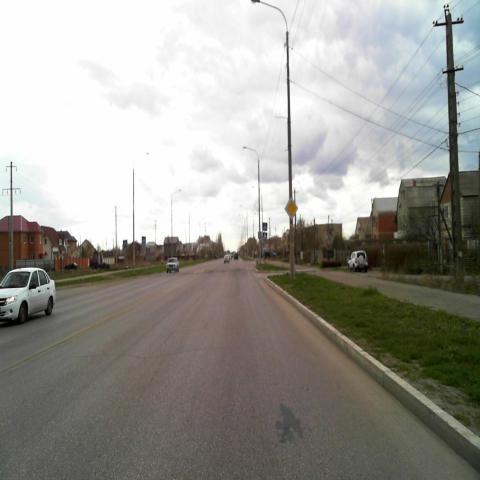2_1: (284, 197, 298, 220)
